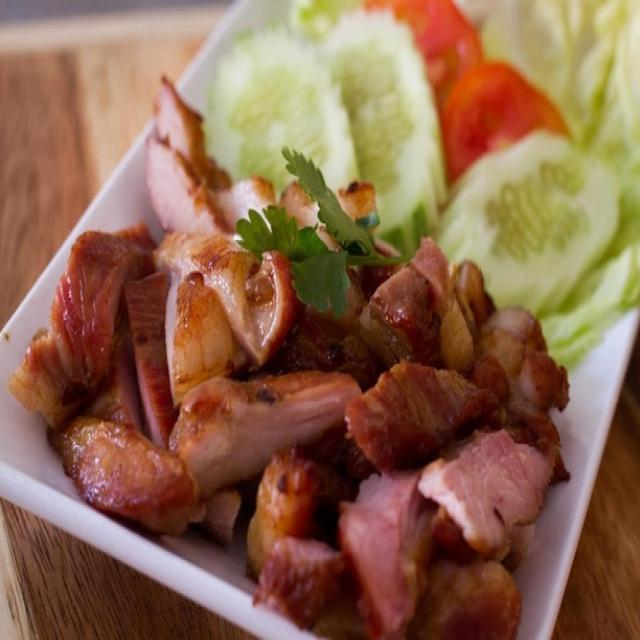猪肉菜式: (20, 51, 571, 614)
